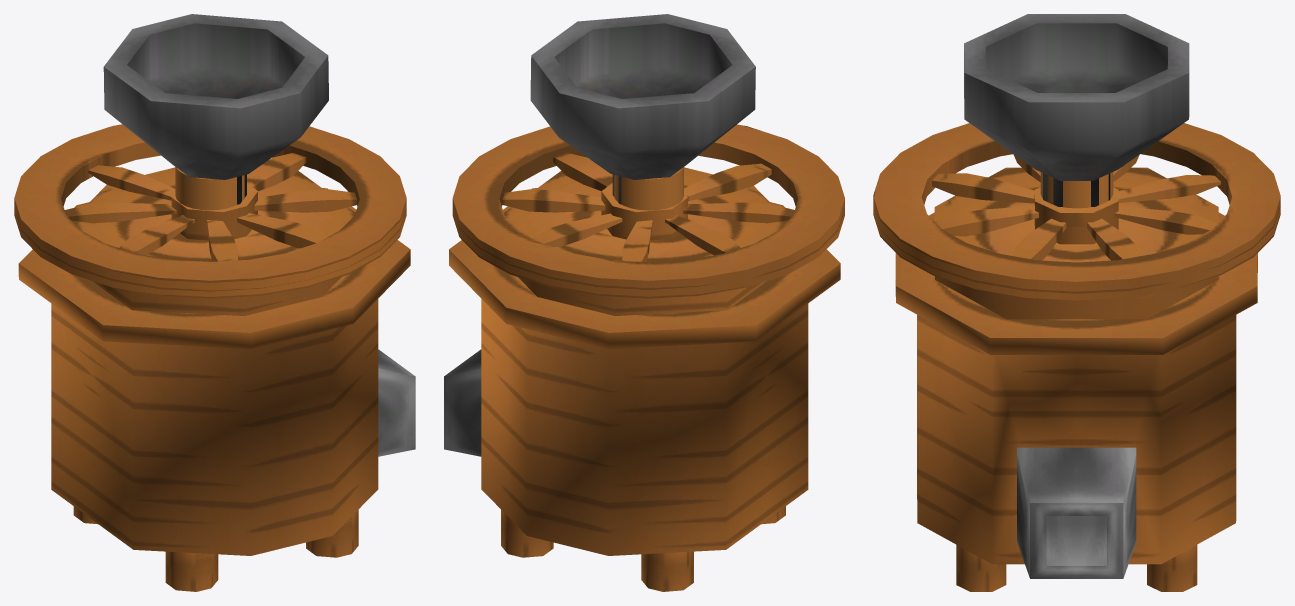
File: MillHand.fbx
The picture shows the model from 3 angles, left to right: view 1: azimuth 30°, elevation 25°; view 2: azimuth 150°, elevation 25°; view 3: azimuth 270°, elevation 25°; orthographic projection. The views are drawn at different scales.
Visible parts, largest first — view 1: SpinningWheelMachine (1), SpinningWheel (1); view 2: SpinningWheelMachine (1), SpinningWheel (1); view 3: SpinningWheelMachine (1), SpinningWheel (1).
Boxes of the visible parts, x1,y1,x2,y2 form: SpinningWheelMachine (1): [18, 14, 415, 591]; SpinningWheel (1): [14, 124, 406, 298]; SpinningWheelMachine (1): [444, 14, 840, 591]; SpinningWheel (1): [452, 124, 844, 298]; SpinningWheelMachine (1): [895, 14, 1257, 591]; SpinningWheel (1): [873, 123, 1280, 300].
Bounding box in the file's own units: 1.05 × 1.34 × 1.02.
